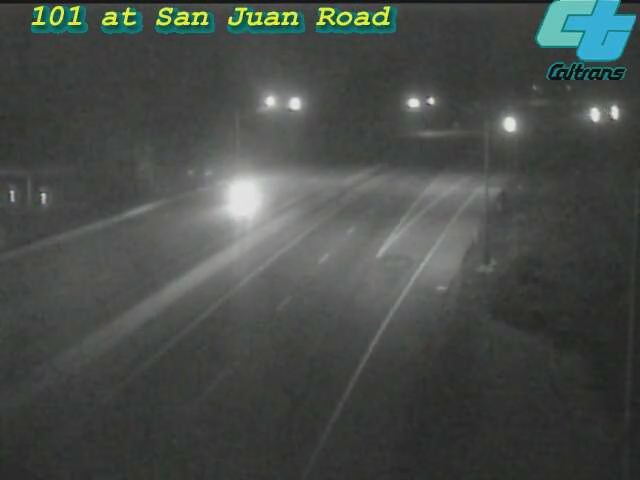vehicle: (204, 158, 284, 238), (484, 100, 534, 150), (566, 92, 616, 142), (589, 88, 639, 138)
